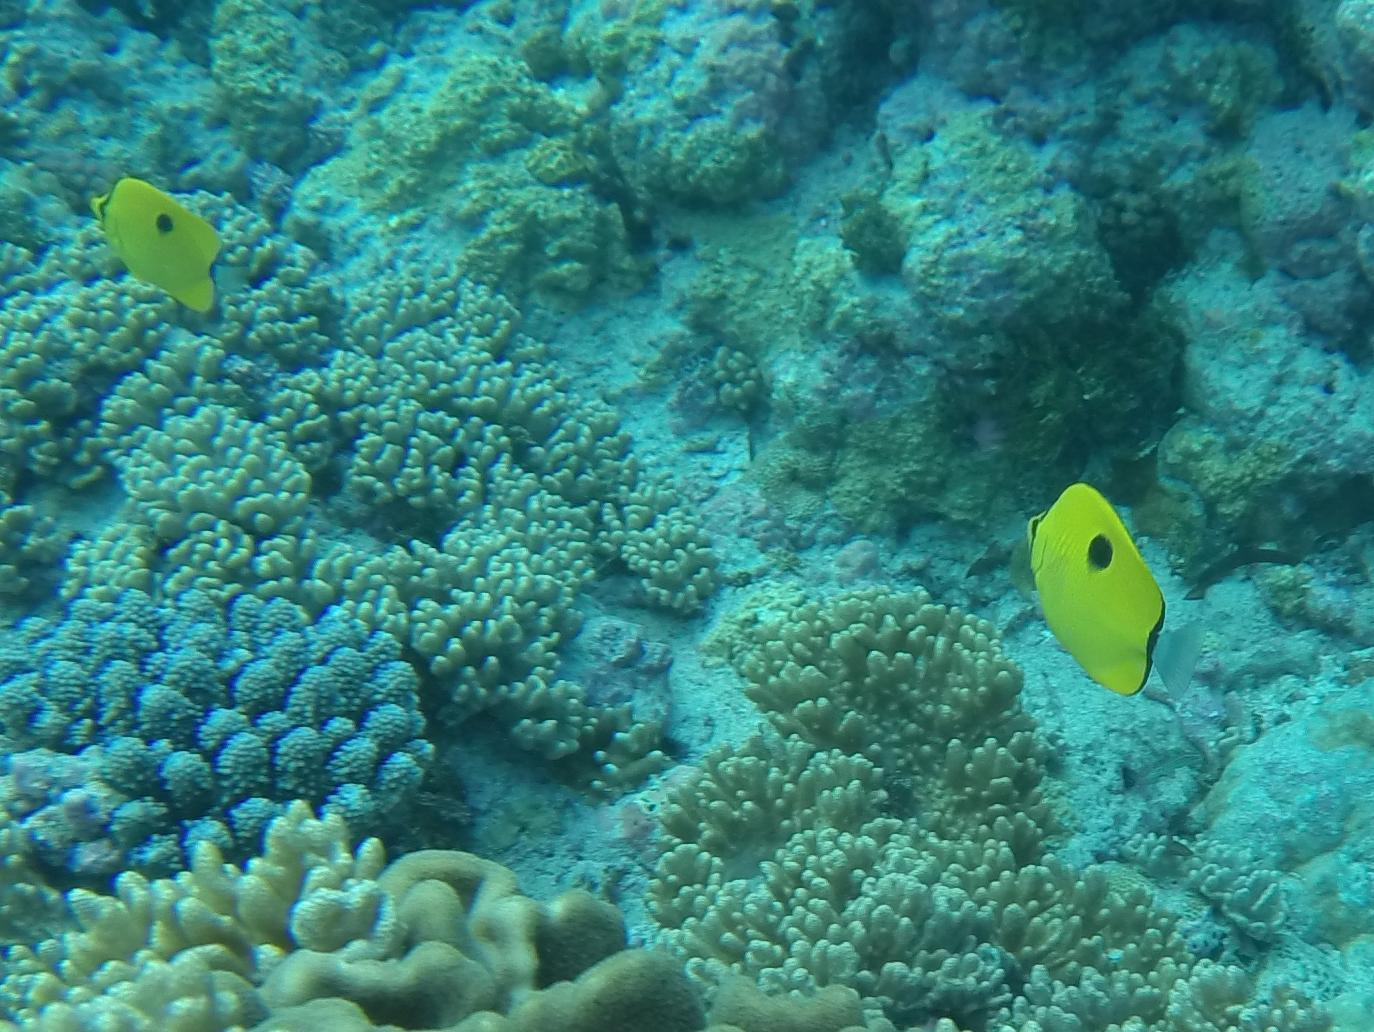Fish: (1017, 477, 1217, 717), (85, 170, 226, 323)
